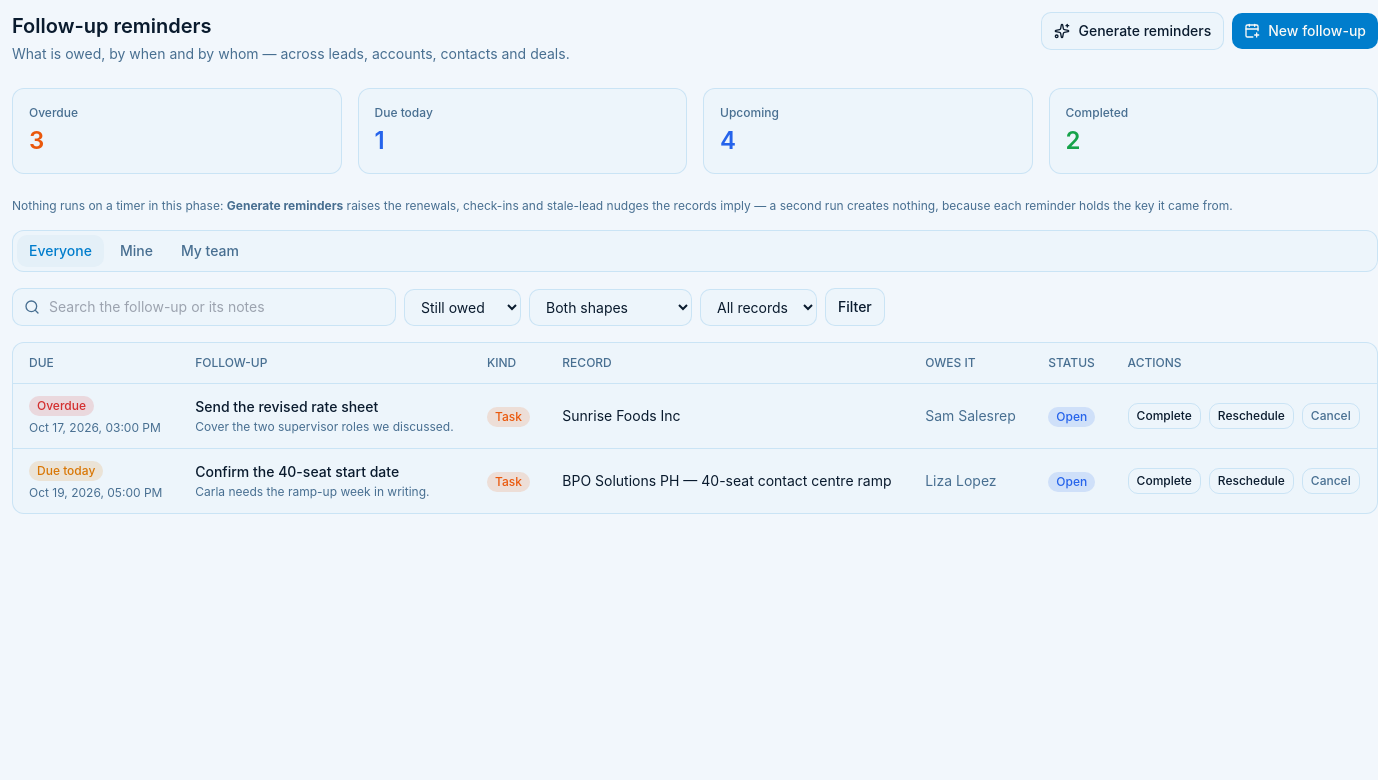
Test: the follow-up worklist › lets a manager raise the reminders the records imply, and reports each source
Check: the link "Send the revised rate sheet" is shown, box [195,398,378,415]
Click the button "Generate reminders".
click(1133, 31)  # box [1041,12,1224,50]
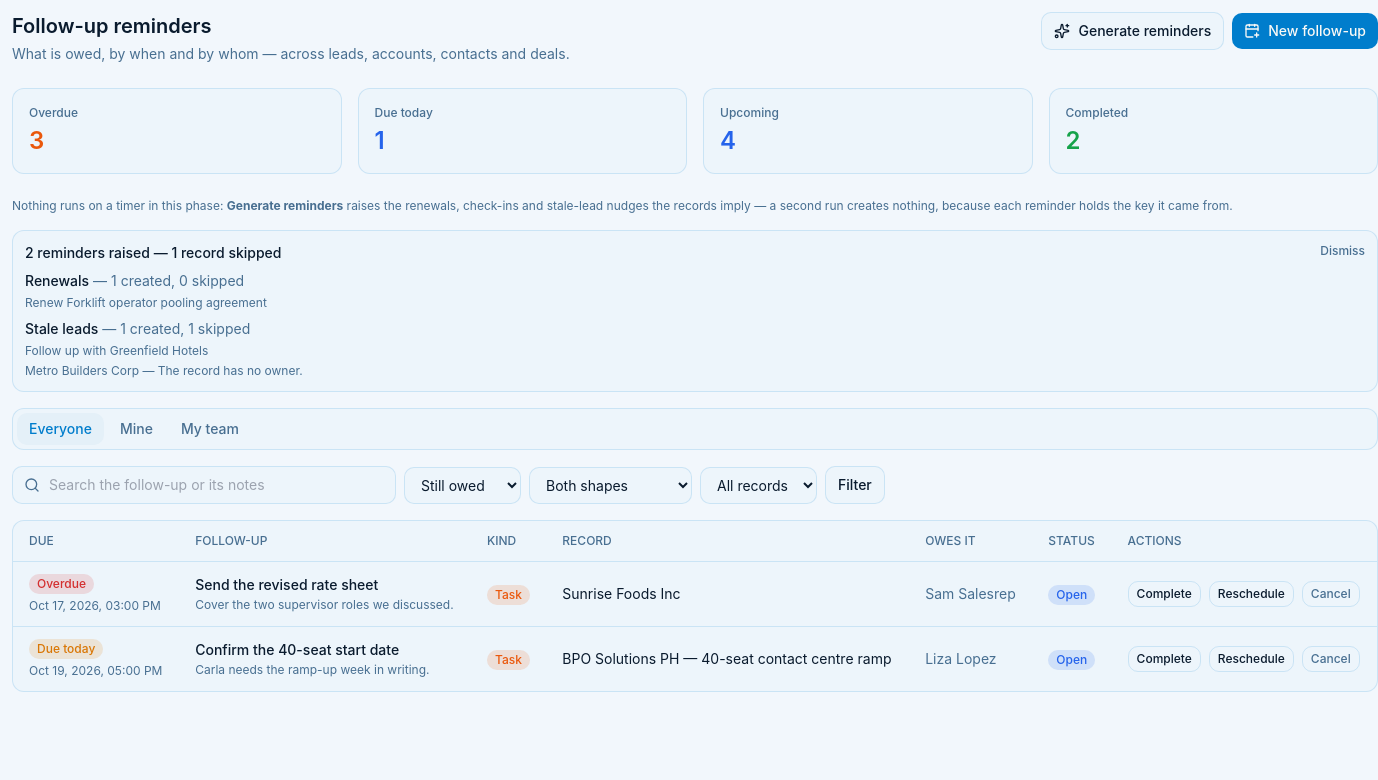
Check: the text "2 reminders raised — 1 record skipped" is shown, box [25,243,282,263]
Check: the list item "Renew Forklift operator pooling agreement" is shown, box [25,295,267,310]
Check: the list item "Metro Builders Corp — The record has no owner." is shown, box [25,363,303,378]
